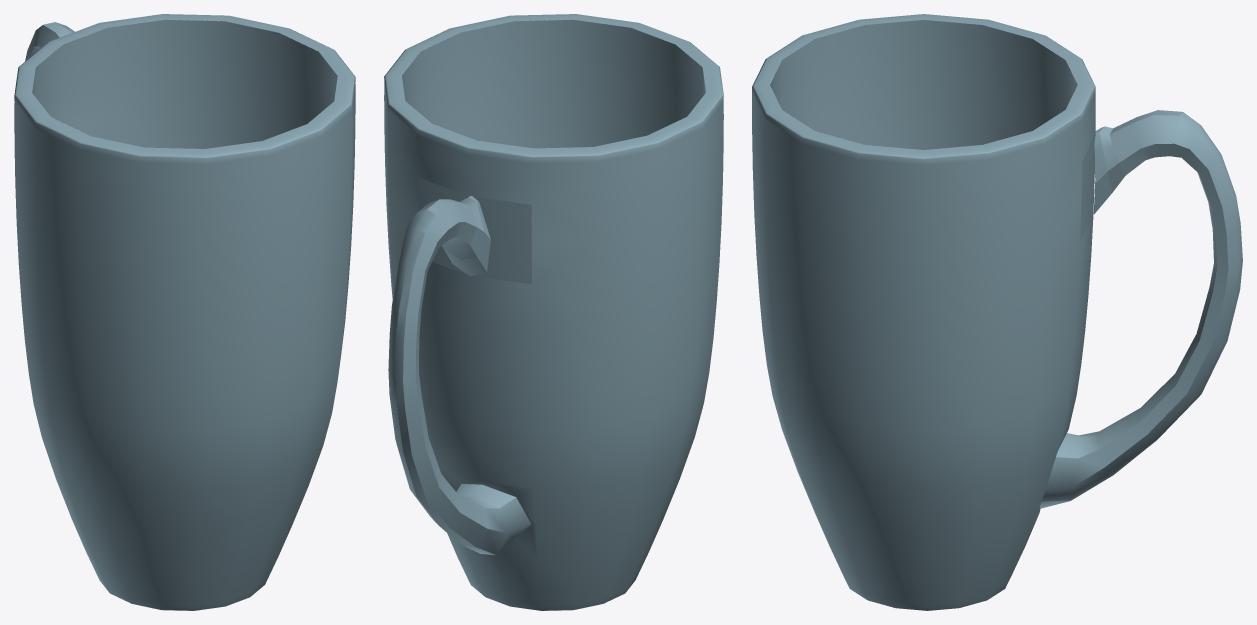
Rendered from mug.fbx.
3 views of the same model, side by side, from view 1: azimuth 30°, elevation 25°; view 2: azimuth 150°, elevation 25°; view 3: azimuth 270°, elevation 25° (orthographic).
Parts seen in each view (by area): view 1: pCylinder1; view 2: pCylinder1; view 3: pCylinder1.
Part boxes in pixels (x1,y1,x2,y2): pCylinder1: (14, 14, 355, 610); pCylinder1: (384, 14, 723, 610); pCylinder1: (752, 14, 1242, 610).
Size of the model in its own units: 10.43 by 16.45 by 14.9.
